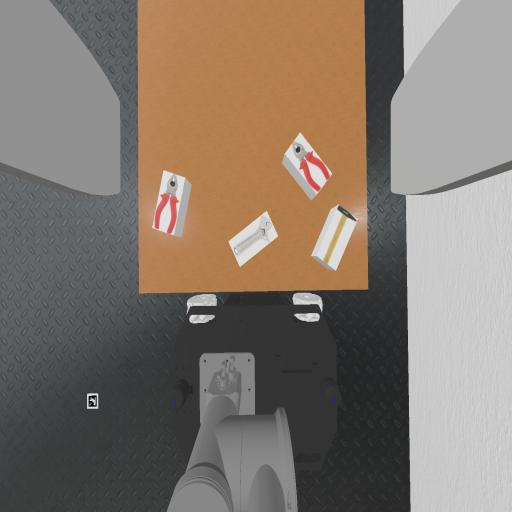hammer: (324, 207, 355, 263)
pliers: (293, 142, 330, 191), (155, 175, 178, 233)
wrench: (234, 217, 272, 255)
